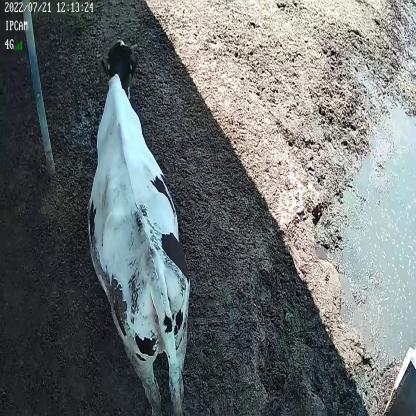cow: (86, 36, 193, 416)
